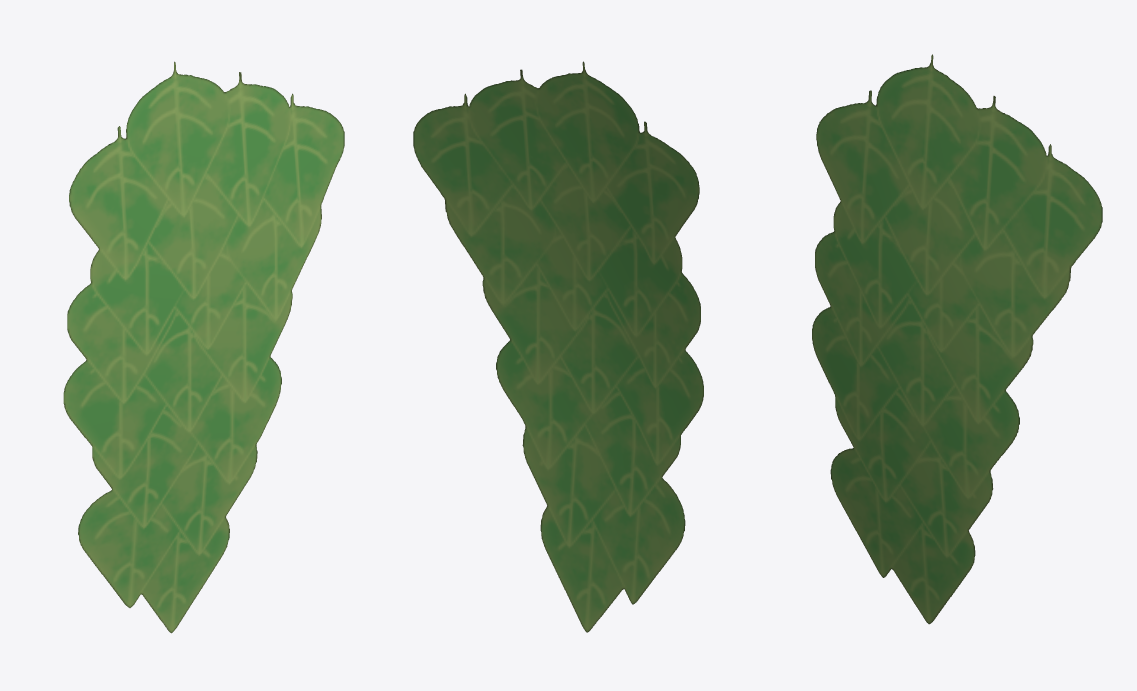
The model's file is LeafSetB_15.fbx.
The picture shows the model from 3 angles, left to right: view 1: azimuth 30°, elevation 25°; view 2: azimuth 150°, elevation 25°; view 3: azimuth 330°, elevation 25°; orthographic projection.
Visible parts, largest first — view 1: LeafSetB_15; view 2: LeafSetB_15; view 3: LeafSetB_15.
Part boxes in pixels (box(x1,y1,x2,y2)): LeafSetB_15: box(63, 61, 344, 633); LeafSetB_15: box(413, 61, 703, 632); LeafSetB_15: box(812, 54, 1102, 624).
Size of the model in its own units: 0.5972 by 0.9417 by 0.037.
